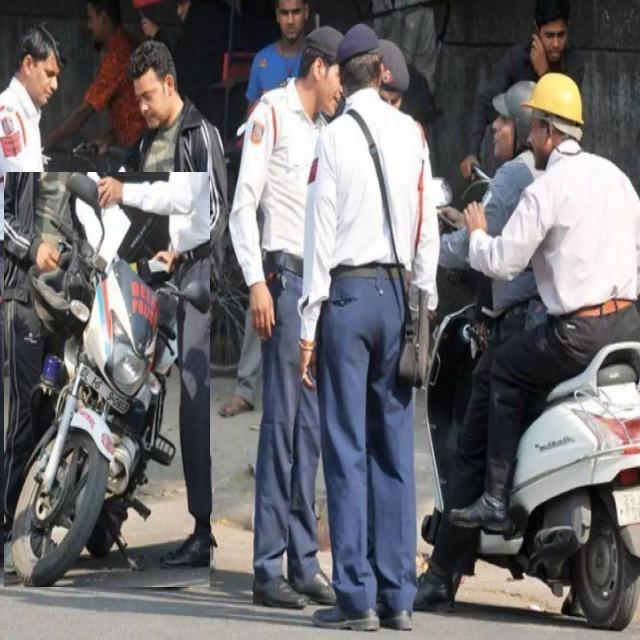motorcycle: (414, 73, 640, 630), (4, 173, 210, 587)
